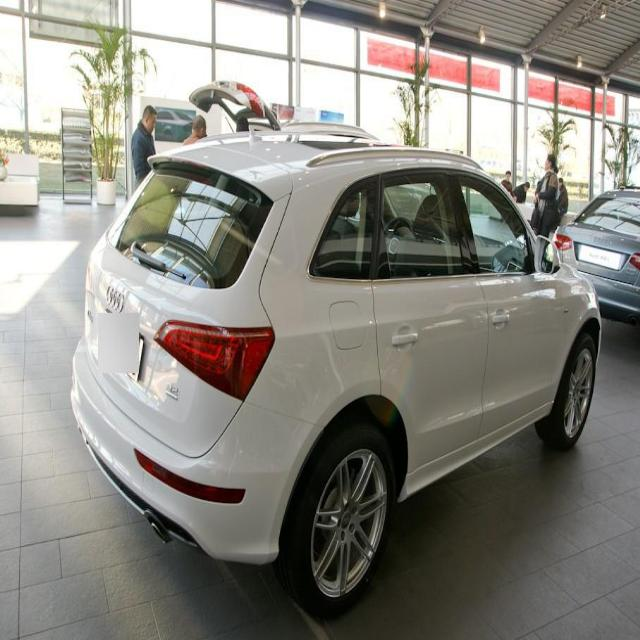back_glass: (106, 163, 274, 290)
back_right_side_light: (153, 317, 276, 402)
door: (370, 172, 482, 466)
front_right_side_door: (451, 163, 563, 444)
front_right_side_mirror: (532, 231, 560, 279)
rear_bumper: (70, 336, 324, 564)
wheel: (290, 436, 390, 614), (536, 334, 597, 449)
